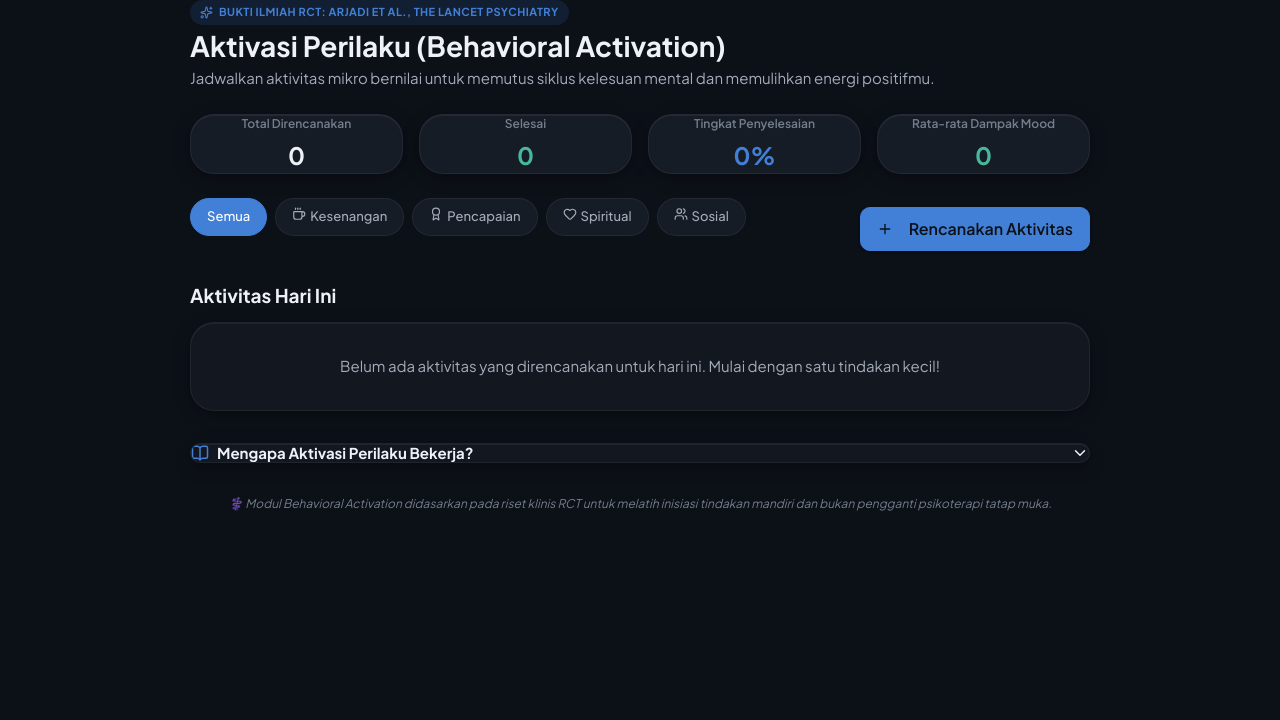
BehavioralActivation Page Component › deletes an activity when delete button is clicked
# Schedule an activity
Click the button "Rencanakan Aktivitas" at coordinates (975, 229), box top-left (860, 207), bottom-right (1090, 251)
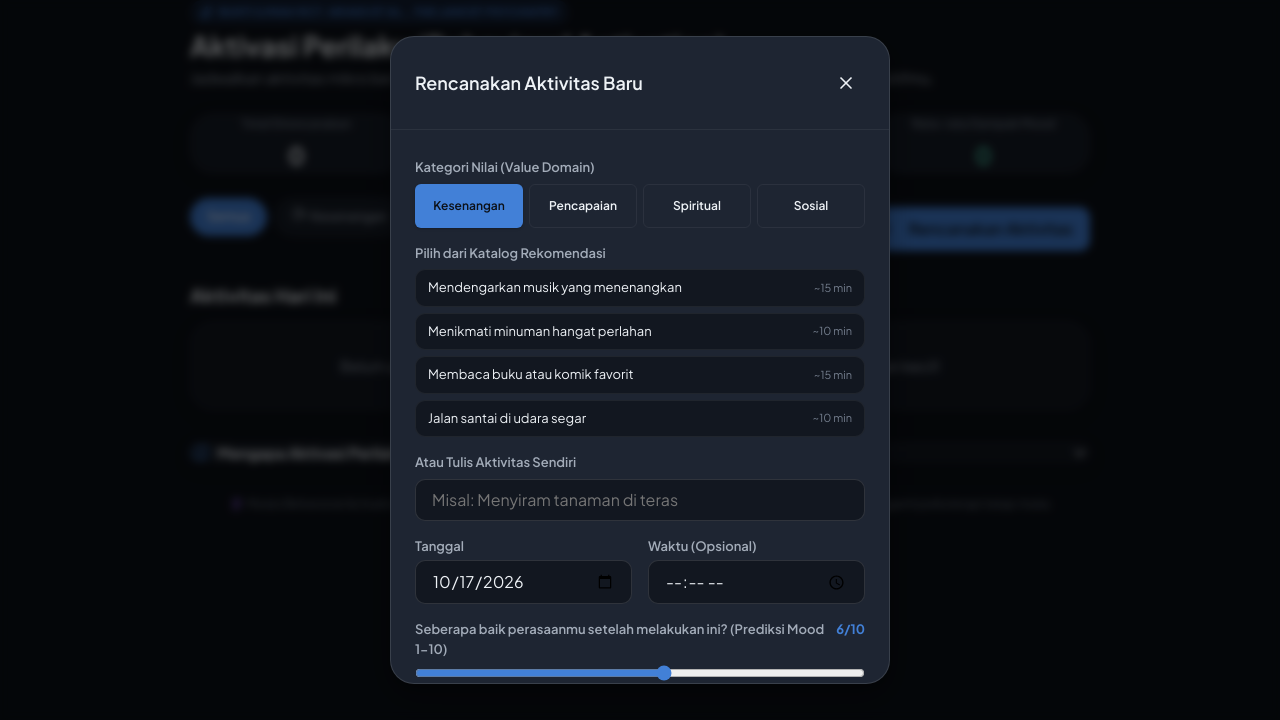
Click the text "Jalan santai di udara segar" at coordinates (507, 418), box top-left (428, 409), bottom-right (586, 428)
(page scrolled)
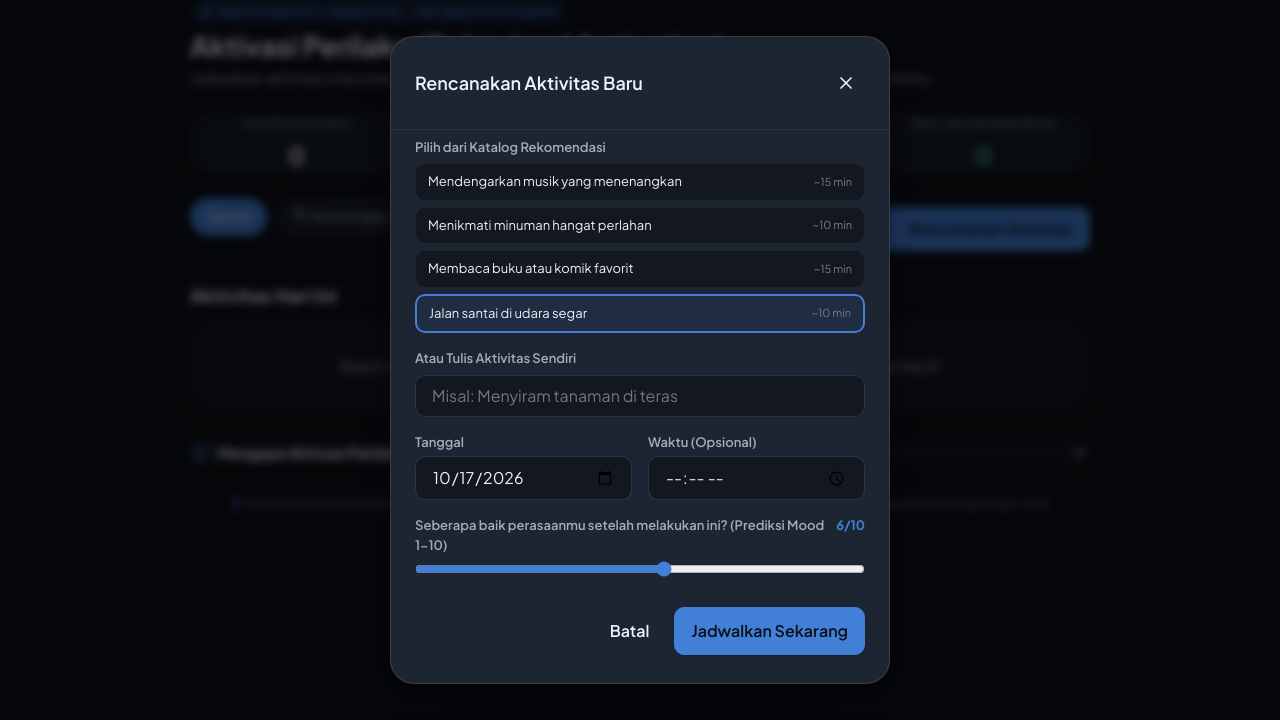
Click the button "Jadwalkan Sekarang" at coordinates (770, 631), box top-left (674, 607), bottom-right (865, 655)
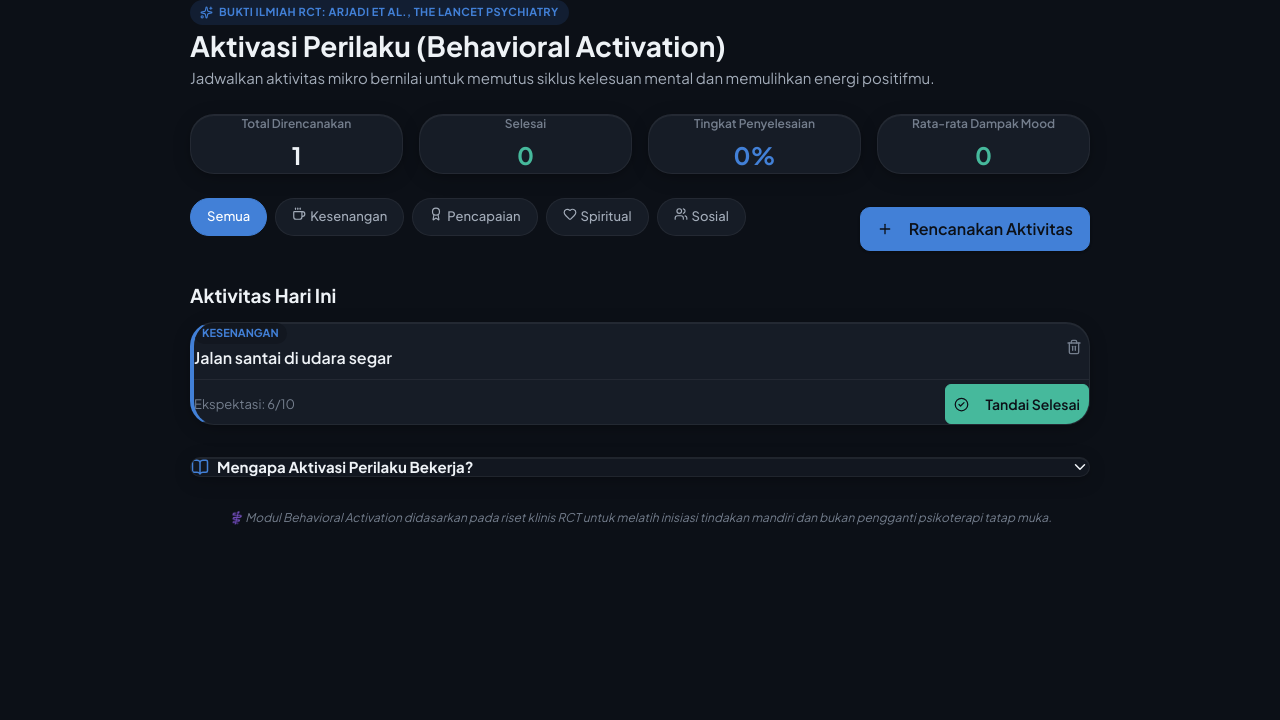
Check: the heading "Jalan santai di udara segar" is shown, box top-left (194, 348), bottom-right (392, 367)
# Delete it
Click the button named "Hapus" at coordinates (1074, 348), box top-left (1059, 324), bottom-right (1089, 372)
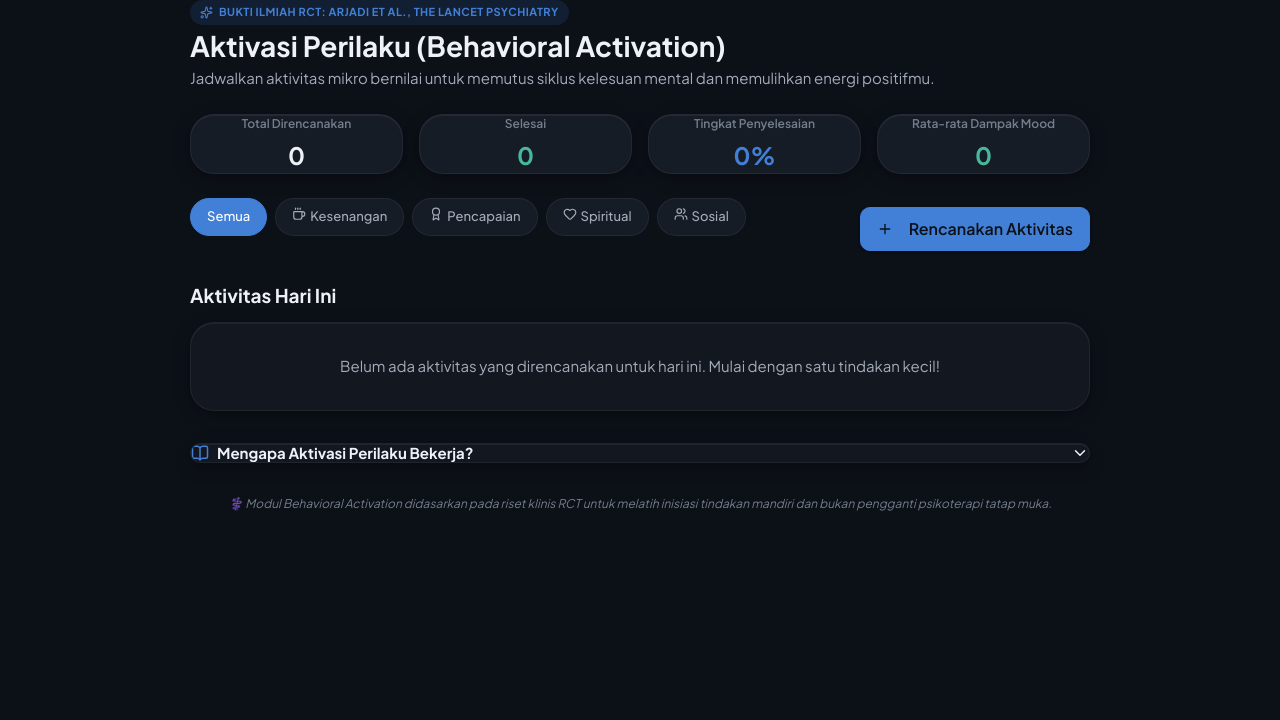
Check: the heading "Jalan santai di udara segar" is gone
